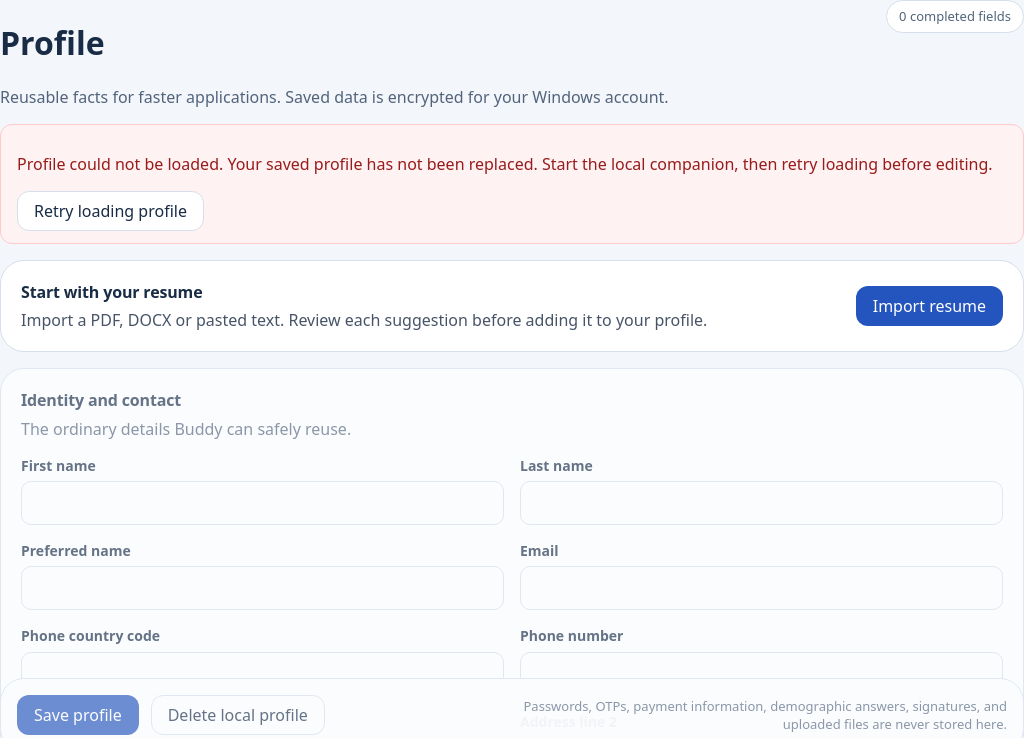
Test: ProfilePage › blocks replacement after a failed load until the existing profile can be retrieved
Expected: the message shows "could not be loaded", x1=17 y1=153 x2=542 y2=175
Expected: the button "Save profile" is disabled, x1=17 y1=695 x2=139 y2=735
Click the button "Retry loading profile".
click(110, 211)  # box x1=17 y1=191 x2=204 y2=231
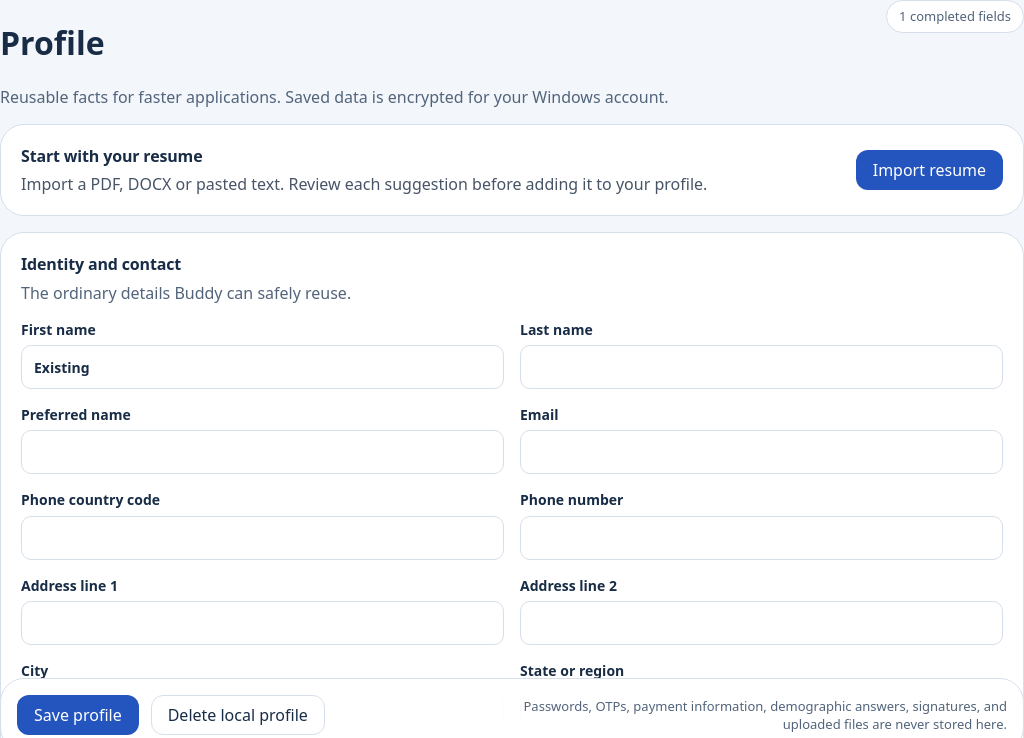
Expected: the button "Save profile" is enabled, x1=17 y1=695 x2=139 y2=735
Expected: the field labelled "First name" holds "Existing", x1=21 y1=345 x2=504 y2=389
